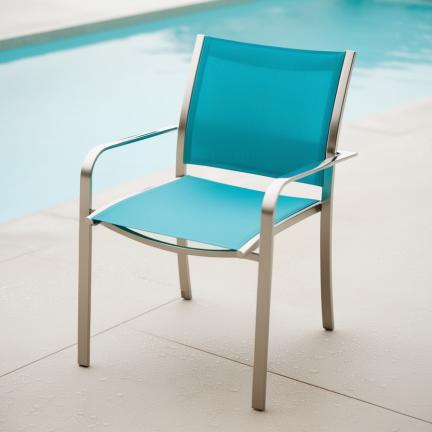empty chair: (78, 35, 356, 410)
